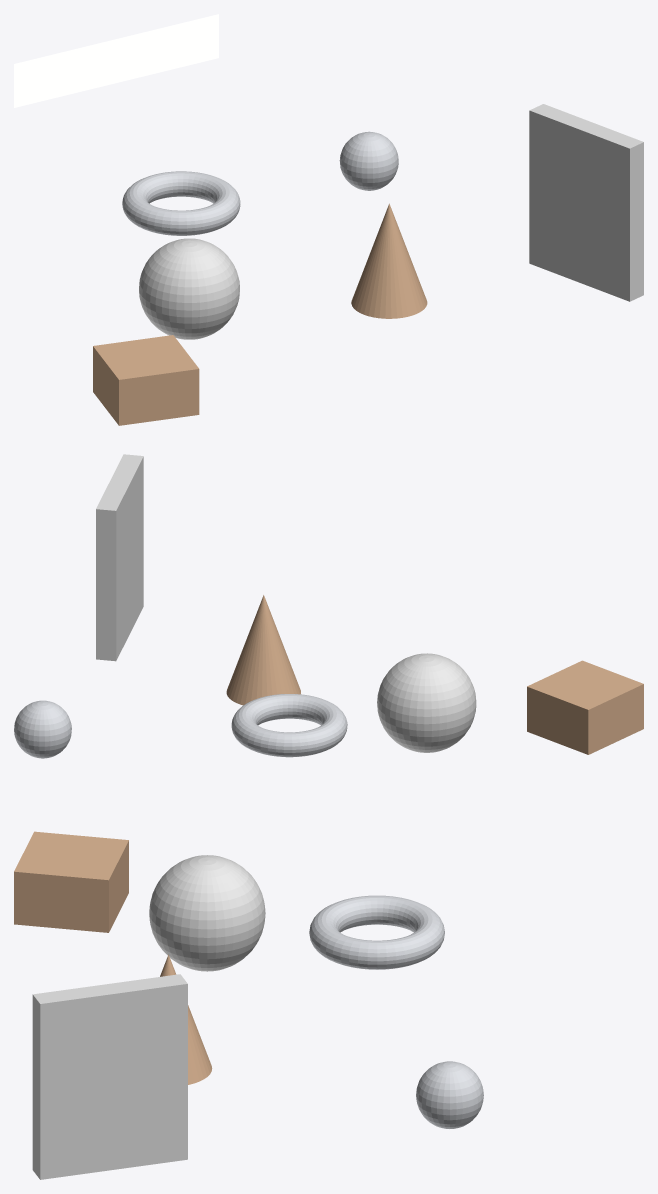
The model's file is ProjectZeroCelestial.gltf.
3 views of the same model, one above another, from view 1: azimuth 30°, elevation 25°; view 2: azimuth 150°, elevation 25°; view 3: azimuth 270°, elevation 25° (orthographic). The views are drawn at different scales.
Visible parts, largest first — view 1: White Slab, Emissive Response Panel, White Sphere, Clay Crate, Steel Torus, Clay Cone, Steel Sphere; view 2: White Slab, Clay Crate, White Sphere, Steel Torus, Clay Cone, Steel Sphere; view 3: White Slab, White Sphere, Clay Crate, Steel Torus, Steel Sphere, Clay Cone.
Part boxes in pixels (x1,y1,x2,y2): White Slab: [529, 104, 643, 301]; Emissive Response Panel: [14, 14, 218, 107]; White Sphere: [139, 238, 239, 339]; Clay Crate: [93, 335, 199, 425]; Steel Torus: [122, 171, 240, 235]; Clay Cone: [351, 203, 427, 318]; Steel Sphere: [339, 131, 398, 190]; White Slab: [96, 454, 143, 661]; Clay Crate: [527, 660, 643, 754]; White Sphere: [377, 653, 476, 752]; Steel Torus: [231, 694, 347, 757]; Clay Cone: [226, 595, 300, 705]; Steel Sphere: [14, 700, 71, 758]; White Slab: [32, 974, 187, 1179]; White Sphere: [149, 855, 265, 971]; Clay Crate: [14, 831, 128, 932]; Steel Torus: [309, 895, 444, 969]; Steel Sphere: [416, 1061, 483, 1128]; Clay Cone: [160, 954, 212, 1084].
Size of what is drawn, in the model's own units: 14.42 by 4 by 12.99.
